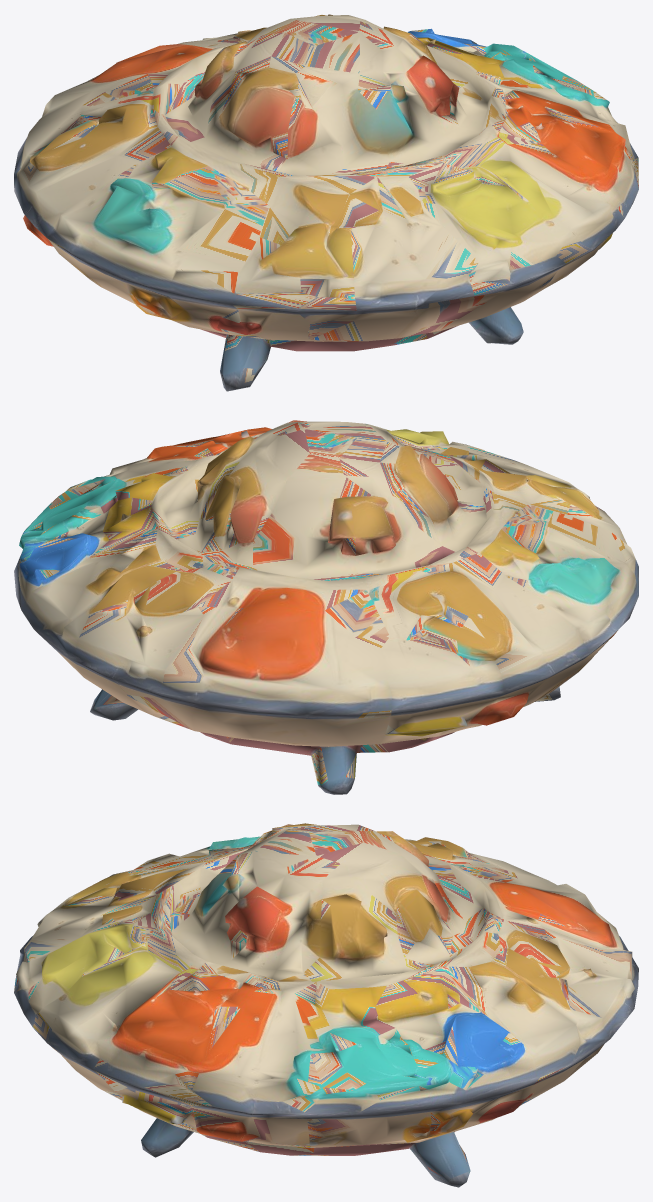
The model's file is paint-spaceship-01-web.glb.
3 views of the same model, one above another, from view 1: azimuth 30°, elevation 25°; view 2: azimuth 150°, elevation 25°; view 3: azimuth 270°, elevation 25° (orthographic).
Visible parts, largest first — view 1: part-0; view 2: part-0; view 3: part-0.
Part boxes in pixels (x1,y1,x2,y2): part-0: (14,14,638,391); part-0: (14,420,638,794); part-0: (14,823,638,1187).
Size of the model in its own units: 2.11 by 0.9978 by 2.11.
Materials: 1 (1 with a texture image).
